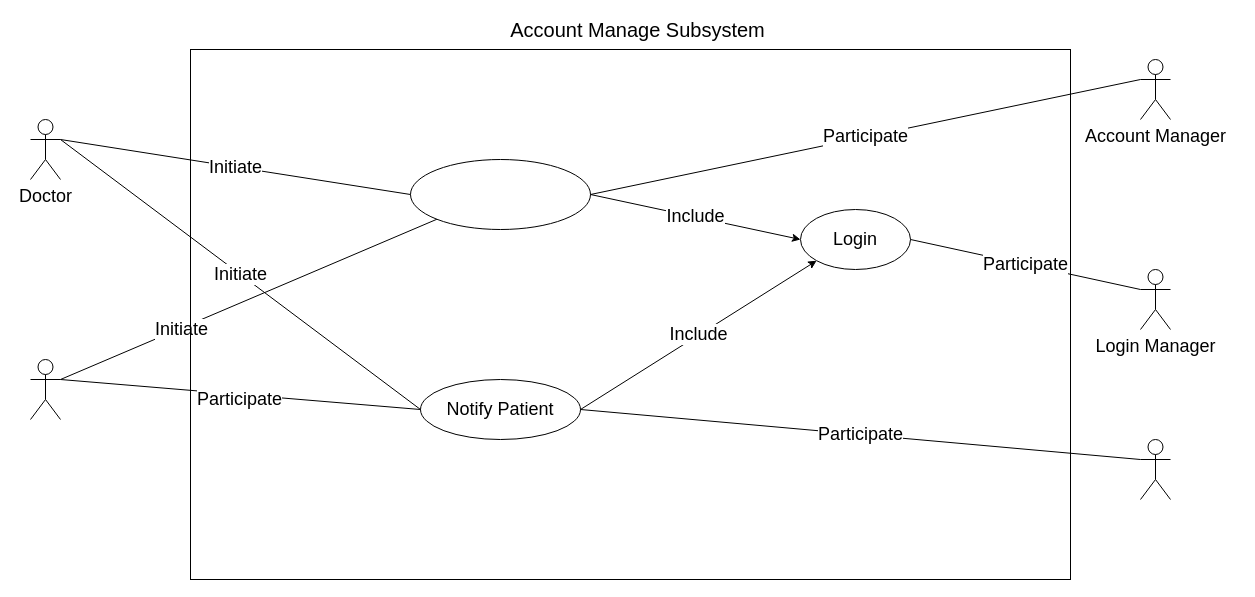
Image size: 1255x597. Some labels were removed from this diagram. The box of each missing label's shape, as (x1, y1, x2, y2) in pixels:
Notification Manager: (1140, 438, 1170, 500)
Patient: (30, 358, 60, 420)
View / Change information: (410, 158, 590, 230)
